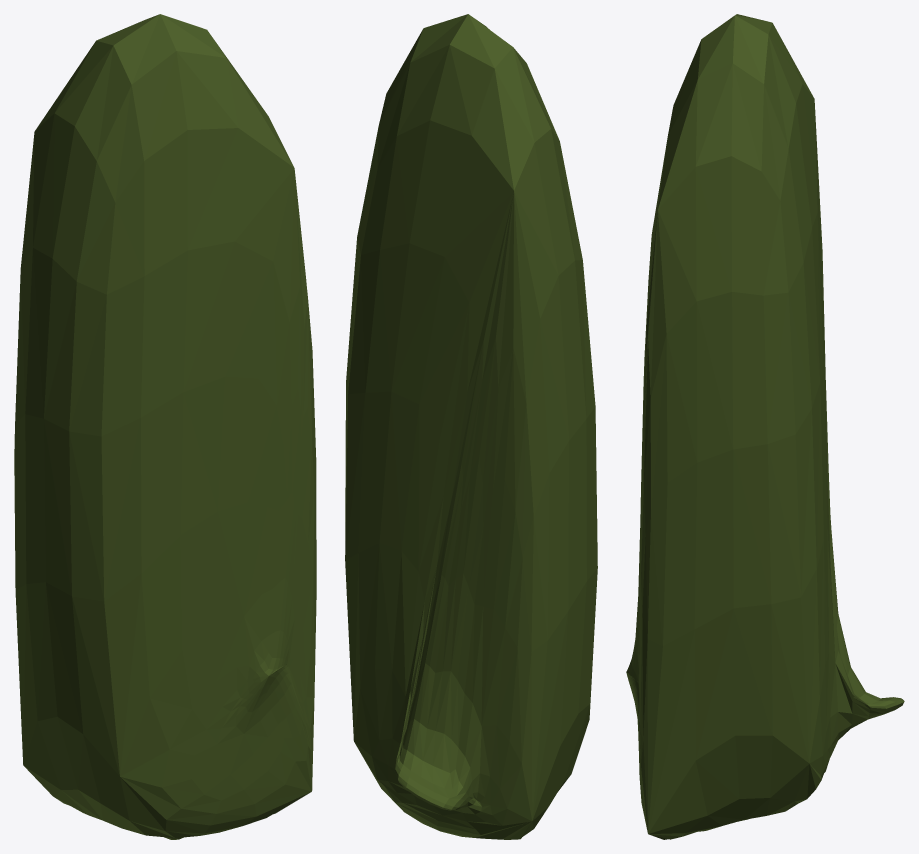
3 views of the same model, side by side, from view 1: azimuth 30°, elevation 25°; view 2: azimuth 150°, elevation 25°; view 3: azimuth 270°, elevation 25° (orthographic).
Visible parts, largest first — view 1: 725_Cube.2908; view 2: 725_Cube.2908; view 3: 725_Cube.2908.
Part boxes in pixels (bbox=[...]): 725_Cube.2908: bbox=[14, 14, 316, 839]; 725_Cube.2908: bbox=[345, 14, 597, 839]; 725_Cube.2908: bbox=[626, 14, 904, 839].
Size of the model in its own units: 3.45 by 11.4 by 3.55.
